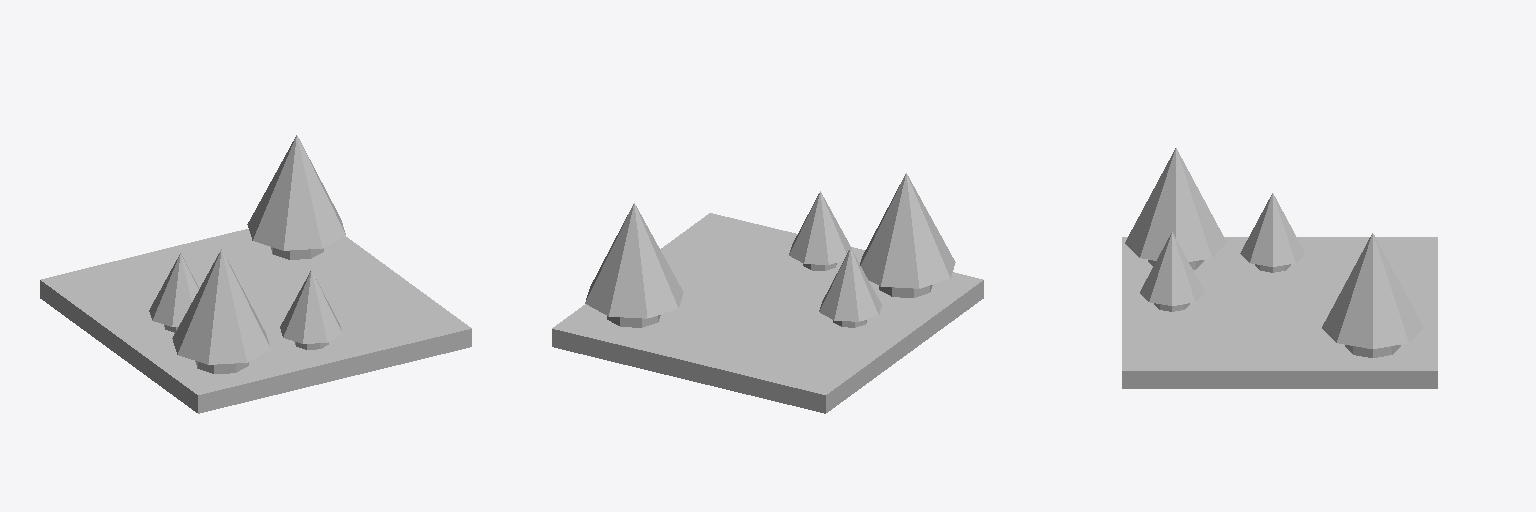
Rendered from floor.obj.
3 views of the same model, side by side, from view 1: azimuth 30°, elevation 25°; view 2: azimuth 150°, elevation 25°; view 3: azimuth 270°, elevation 25° (orthographic).
Visible parts, largest first — view 1: Cone.002_Cone.003; view 2: Cone.002_Cone.003; view 3: Cone.002_Cone.003.
Part boxes in pixels (left/top/right/bottom): Cone.002_Cone.003: left=40, top=135, right=471, bottom=413; Cone.002_Cone.003: left=552, top=173, right=983, bottom=413; Cone.002_Cone.003: left=1122, top=148, right=1437, bottom=388.
Bounding box in the file's own units: 5.61 × 2.6 × 5.61.